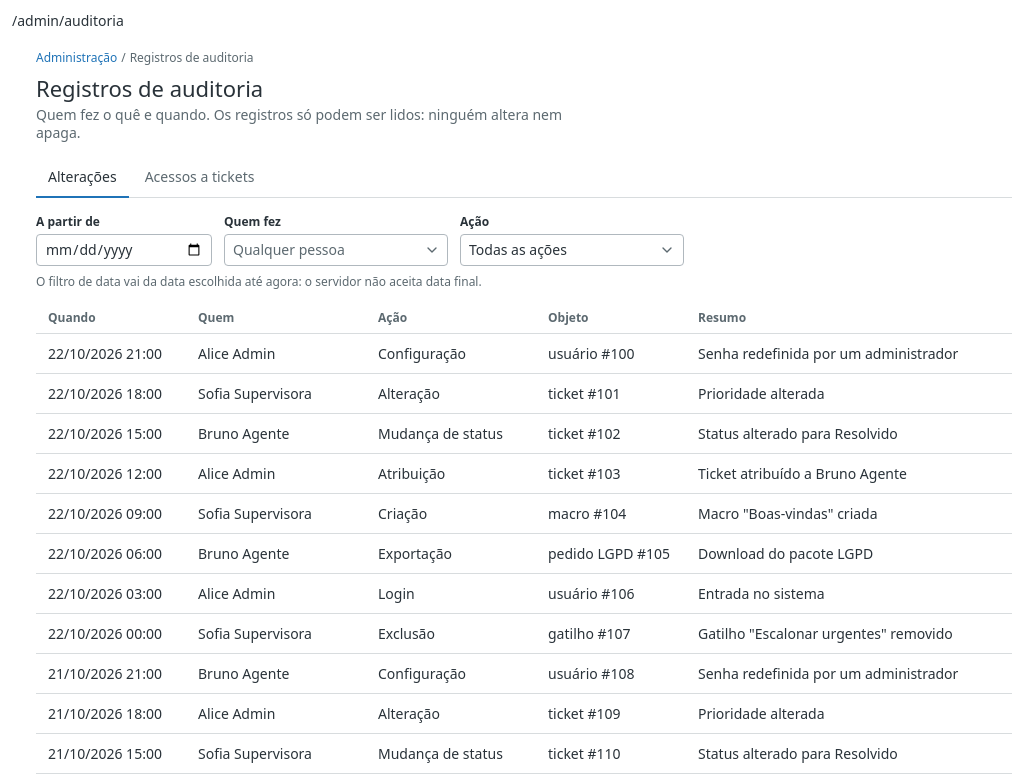
Scenario: Registros de auditoria › filtro por ação volta ao início e reduz a lista
Click the dropdown named "Filtrar por ação" at (572, 250), box [460, 234, 684, 266]
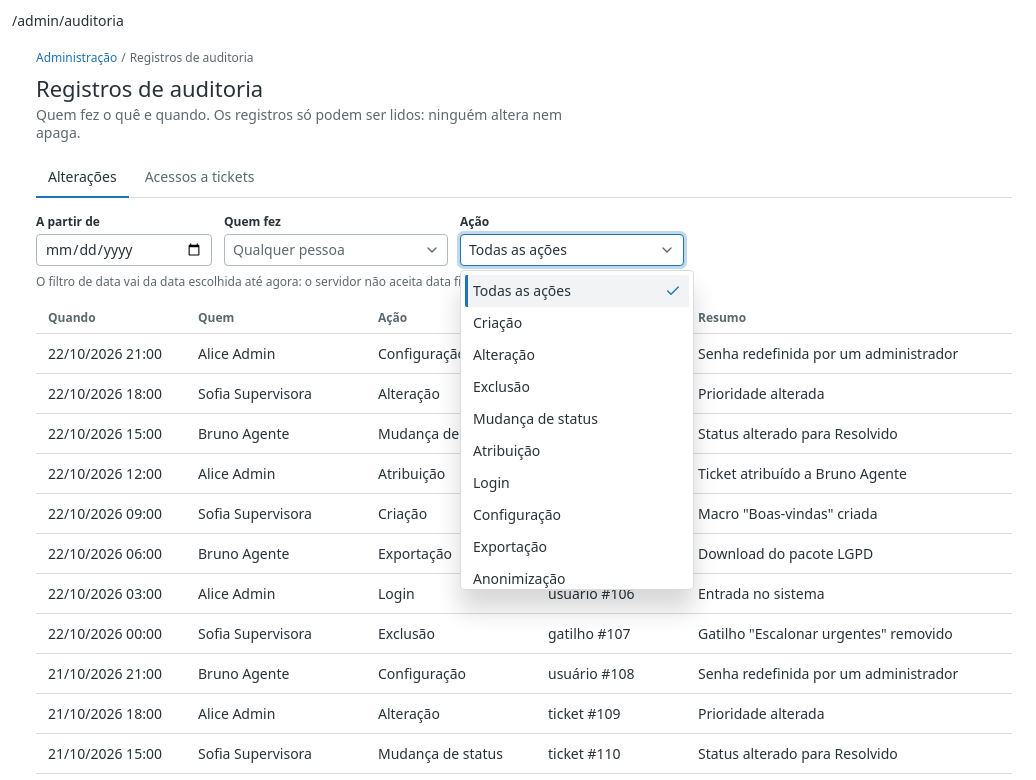
Click the option "Exportação" at (510, 546), box [473, 537, 547, 556]
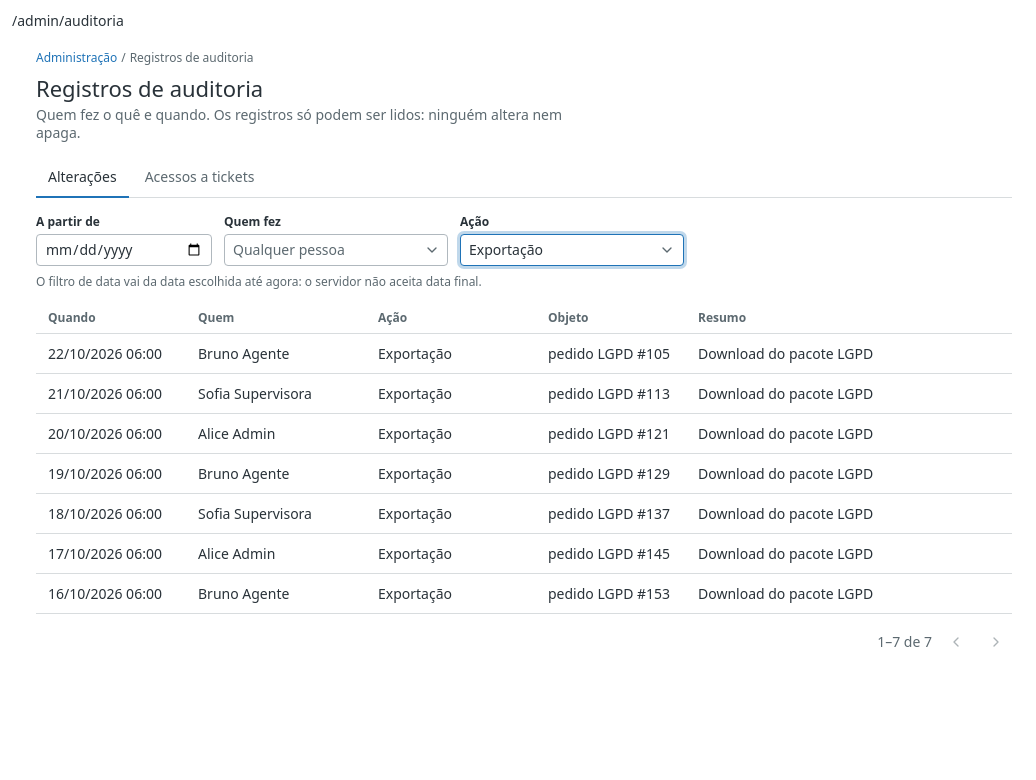
Result: the text "1–7 de 7" is shown at [877, 633, 932, 651]
